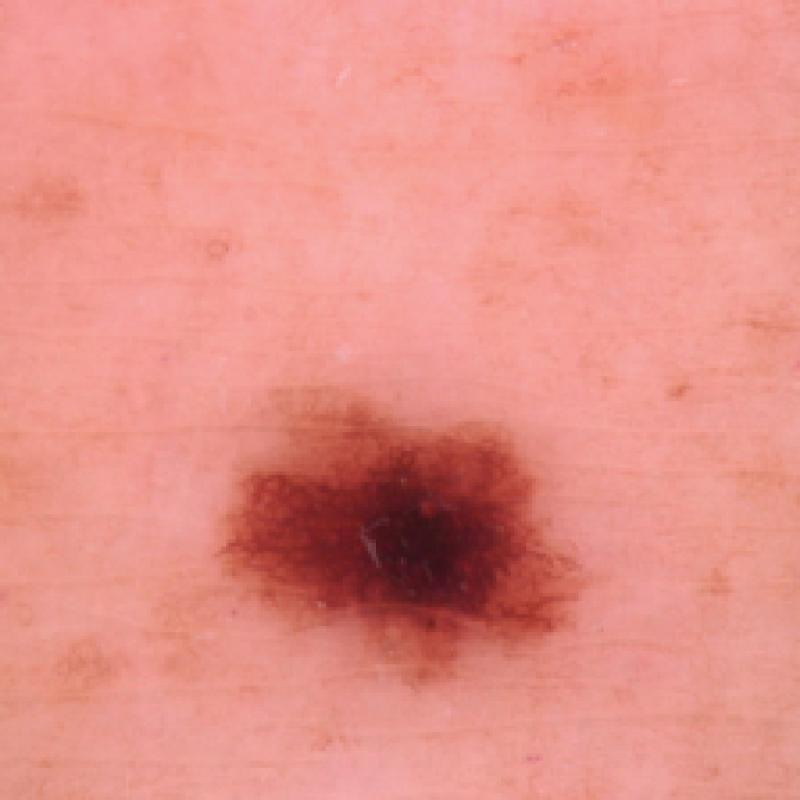benign: (205, 419, 628, 708)
